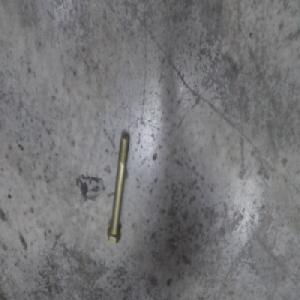Bolt: (108, 132, 132, 250)
